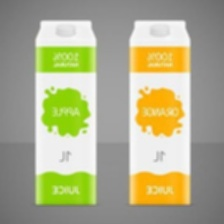carton: (122, 17, 197, 208), (28, 17, 101, 209)
